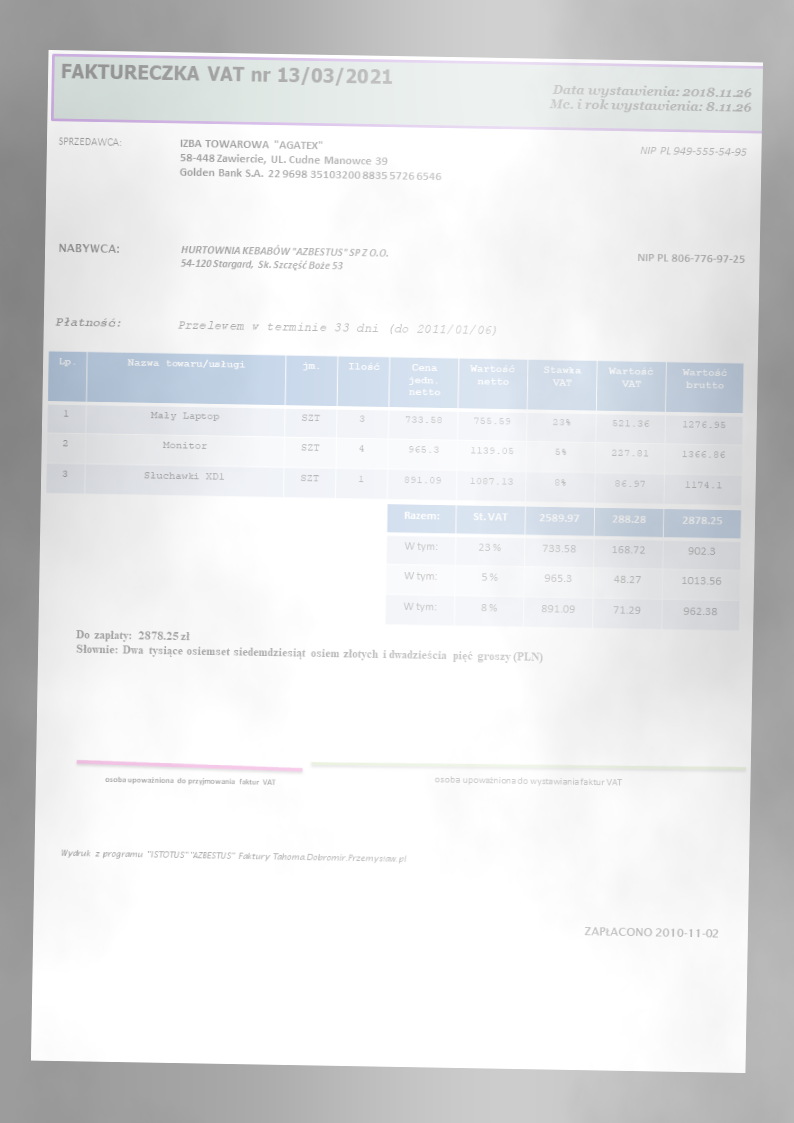Table: (44, 349, 745, 508), (384, 503, 742, 632)
TextBox: (73, 627, 546, 666), (177, 136, 444, 184), (58, 60, 394, 89), (545, 81, 753, 116), (59, 846, 409, 866), (177, 318, 499, 339), (179, 243, 391, 273), (432, 773, 623, 789), (102, 773, 276, 788), (581, 923, 719, 940), (634, 251, 745, 266), (638, 144, 748, 159), (54, 314, 123, 330), (57, 133, 123, 149), (56, 240, 120, 256)
